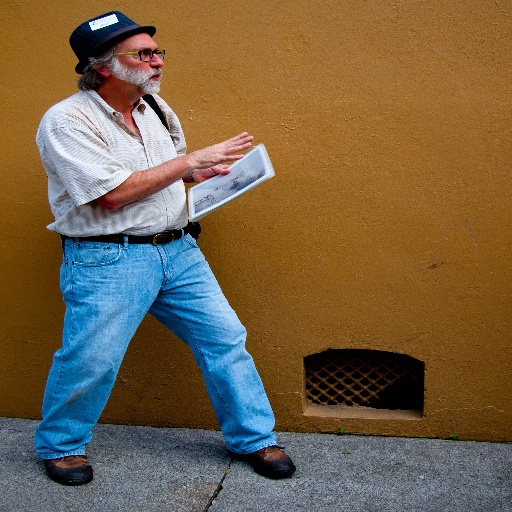hand: (167, 127, 251, 177), (192, 161, 233, 184)
